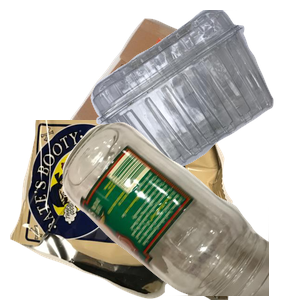cardboard: (67, 16, 295, 196)
glass: (60, 120, 300, 300)
plastic: (88, 10, 300, 180)
trash: (10, 120, 235, 300)
